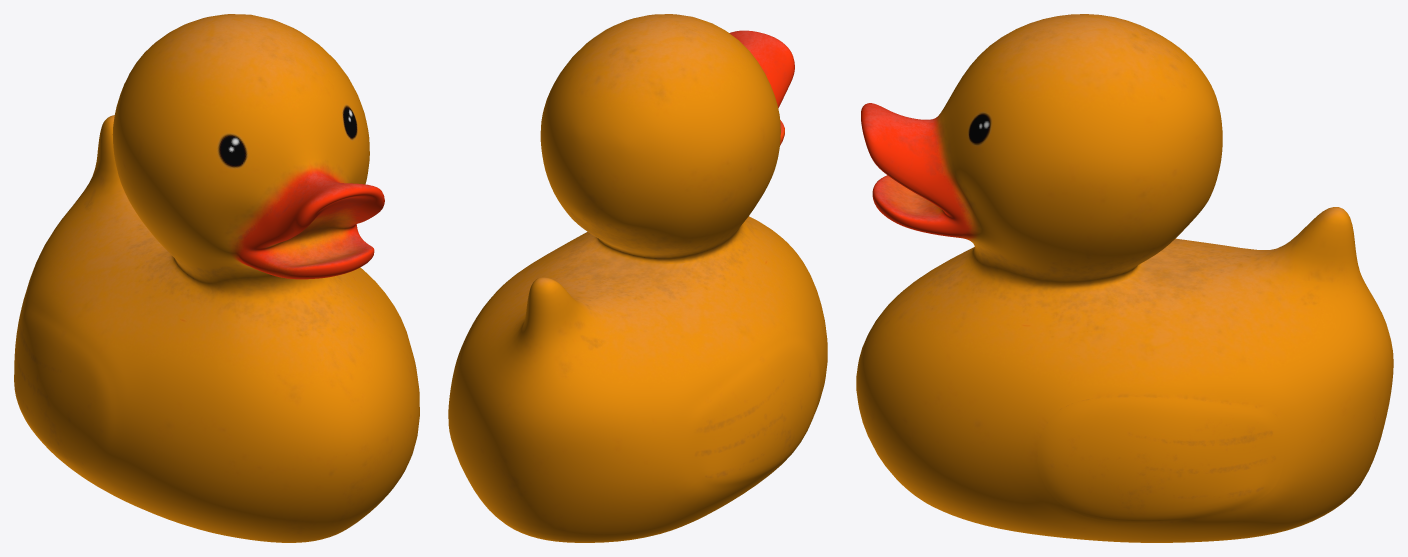
Rendered from ave-duck.glb.
3 views of the same model, side by side, from view 1: azimuth 30°, elevation 25°; view 2: azimuth 150°, elevation 25°; view 3: azimuth 270°, elevation 25° (orthographic). The views are drawn at different scales.
Parts seen in each view (by area): view 1: Plat251 Rubber Duck; view 2: Plat251 Rubber Duck; view 3: Plat251 Rubber Duck.
Boxes of the visible parts, left/top/right/bottom form: Plat251 Rubber Duck: left=14, top=14, right=419, bottom=542; Plat251 Rubber Duck: left=448, top=14, right=827, bottom=542; Plat251 Rubber Duck: left=856, top=14, right=1393, bottom=542.
Size of the model in its own units: 0.2124 by 0.2839 by 0.2964.
Materials: 1 (1 with a texture image).
